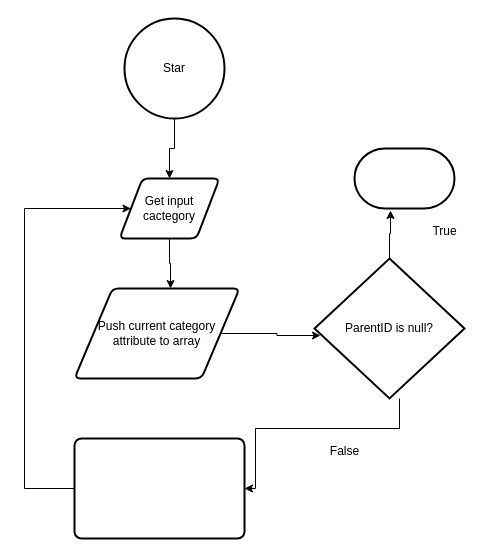
The diagram is 487 pixels wide and 556 high, and some of its shapes have lost their labels. The shapes that lost their labels are listed below. From the top down, each one's box as (x1, y1, x2, y2) in pixels, then its label:
(353, 147, 455, 209): Stop
(73, 437, 245, 539): Current category equal to category with previous parentID
